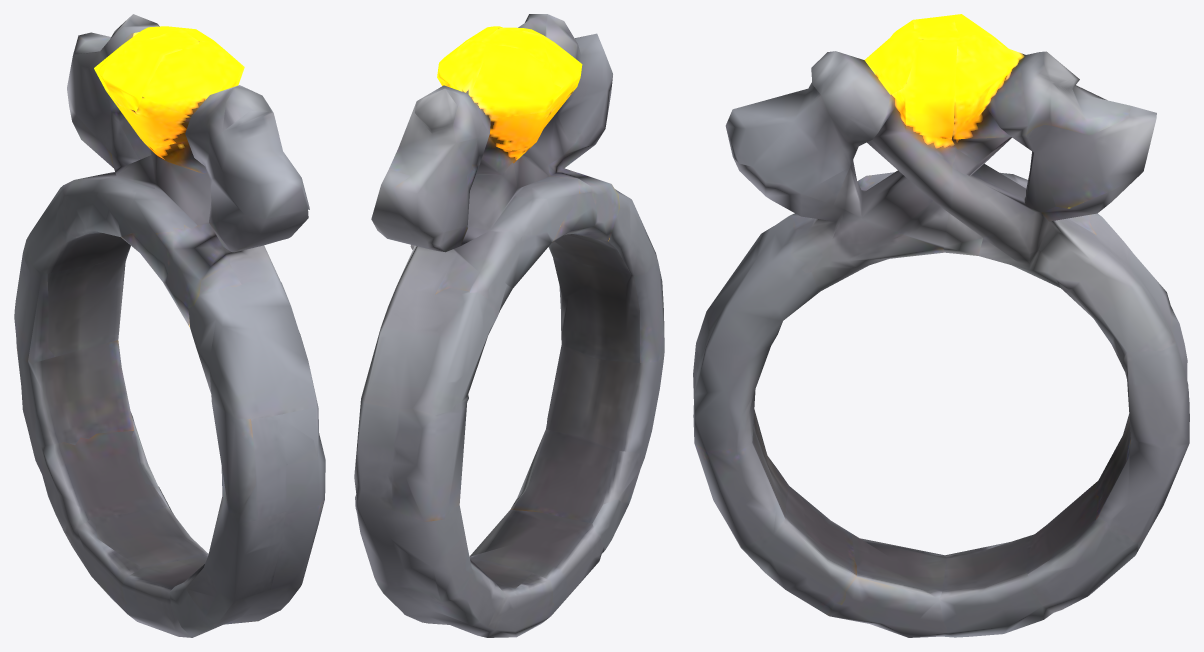
File: uq_ring_thrower-D9OGpAjC.glb
3 views of the same model, side by side, from view 1: azimuth 30°, elevation 25°; view 2: azimuth 150°, elevation 25°; view 3: azimuth 270°, elevation 25° (orthographic). The views are drawn at different scales.
Visible parts, largest first — view 1: tripo_node_eb5b5583-4501-4388-803c-36d5168f5fcc; view 2: tripo_node_eb5b5583-4501-4388-803c-36d5168f5fcc; view 3: tripo_node_eb5b5583-4501-4388-803c-36d5168f5fcc.
Boxes of the visible parts, bbox=[...] form: tripo_node_eb5b5583-4501-4388-803c-36d5168f5fcc: bbox=[14, 14, 325, 637]; tripo_node_eb5b5583-4501-4388-803c-36d5168f5fcc: bbox=[354, 14, 664, 637]; tripo_node_eb5b5583-4501-4388-803c-36d5168f5fcc: bbox=[693, 14, 1189, 637].
Size of the model in its own units: 0.216 by 1 by 0.7567.
Materials: 1 (1 with a texture image).
